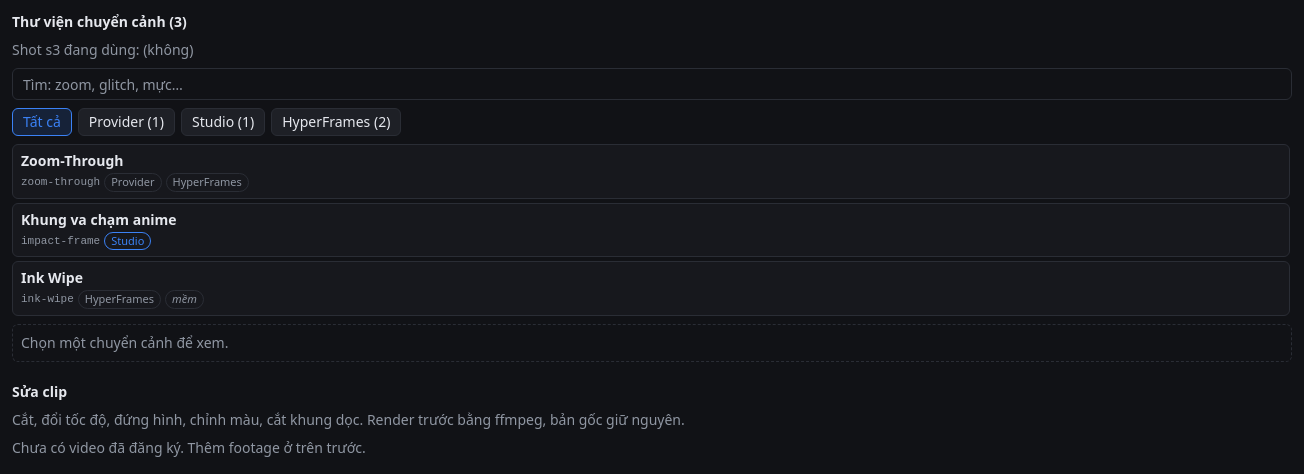
Test: fx tab › filters by text and source chip, and says when nothing matches
Type "zoom" into the search field named "Tìm chuyển cảnh".
click(652, 84); type("zoom")  # box top-left (12, 68), bottom-right (1292, 100)
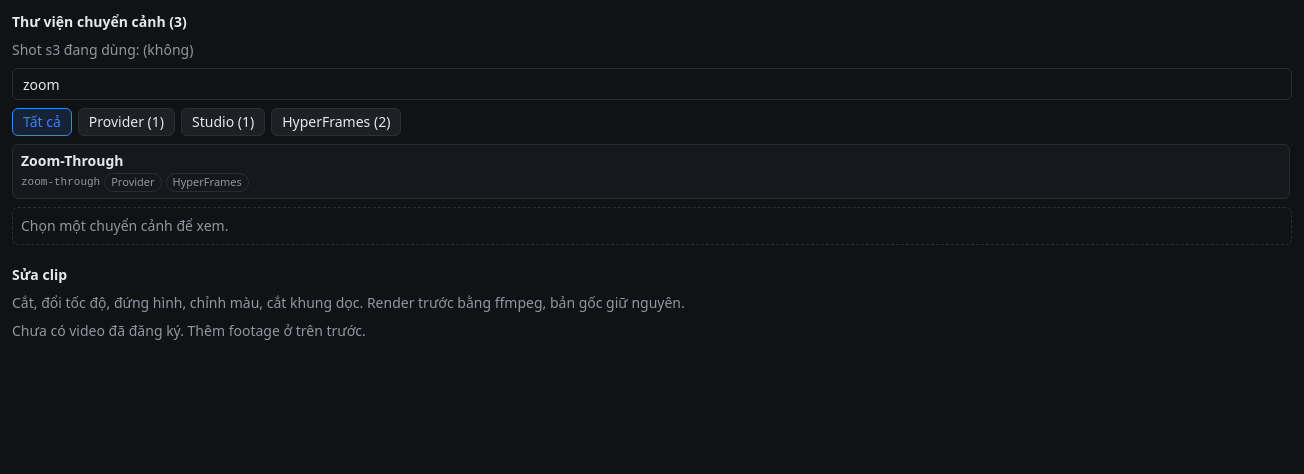
Result: the number of options is 1 at top-left (12, 144), bottom-right (1290, 198)
Click the button "Studio (1)".
click(223, 122)  # box top-left (181, 108), bottom-right (265, 136)
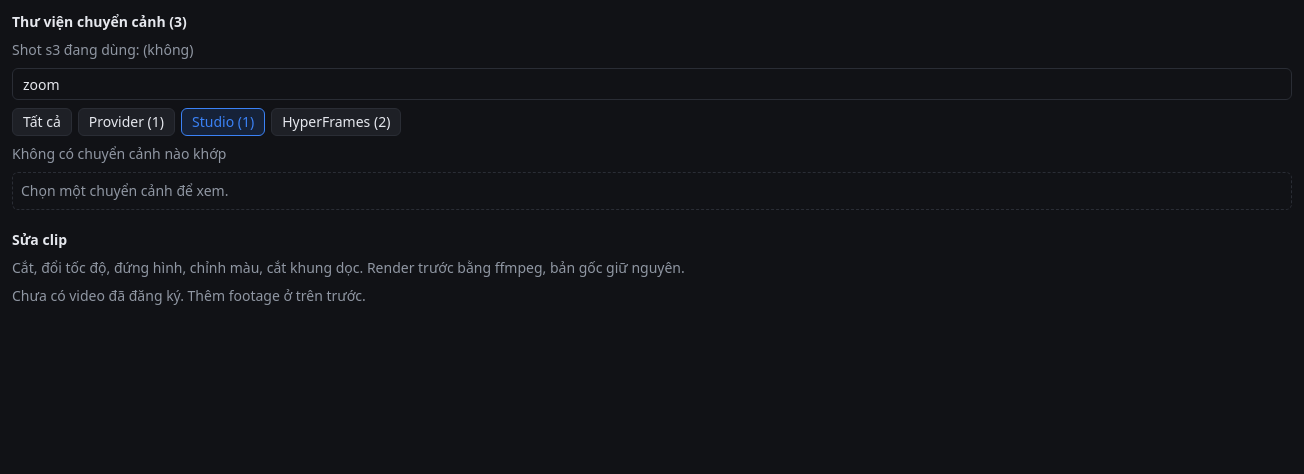
Result: the text "Không có chuyển cảnh nào khớp" is shown at top-left (12, 144), bottom-right (226, 163)
